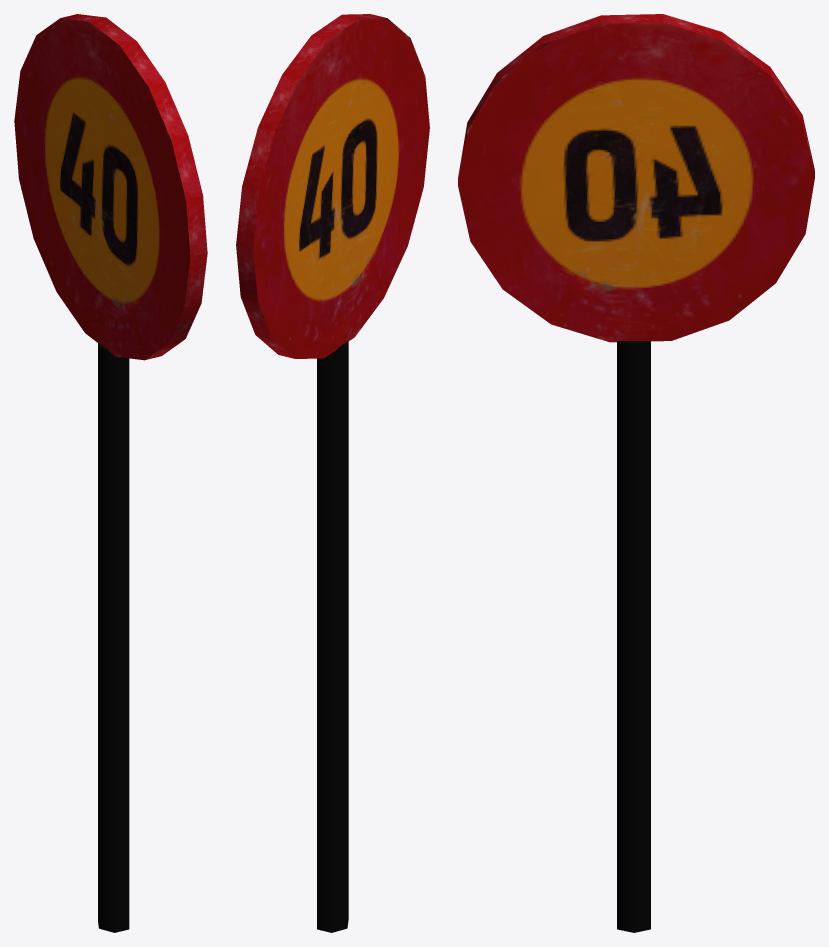
File: traffic sign1.FBX
3 views of the same model, side by side, from view 1: azimuth 30°, elevation 25°; view 2: azimuth 150°, elevation 25°; view 3: azimuth 270°, elevation 25° (orthographic).
Parts seen in each view (by area): view 1: Cylinder002; view 2: Cylinder002; view 3: Cylinder002.
Boxes of the visible parts, x1,y1,x2,y2 form: Cylinder002: (14,14,207,932); Cylinder002: (236,14,429,932); Cylinder002: (458,14,814,932).
Bounding box in the file's own units: 0.64 × 18.8 × 6.7.
